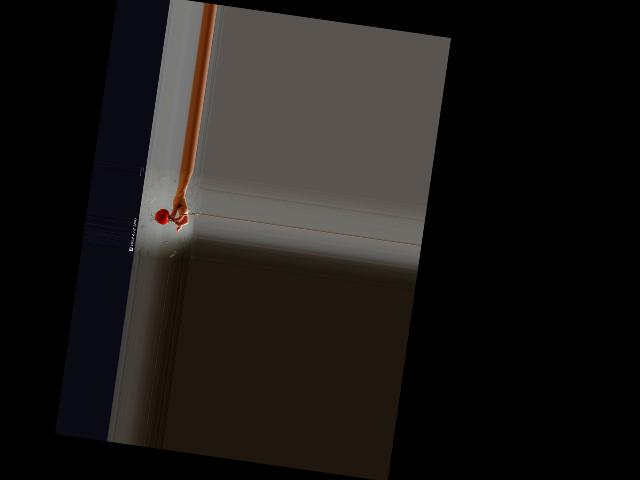tomato: (153, 207, 170, 224)
